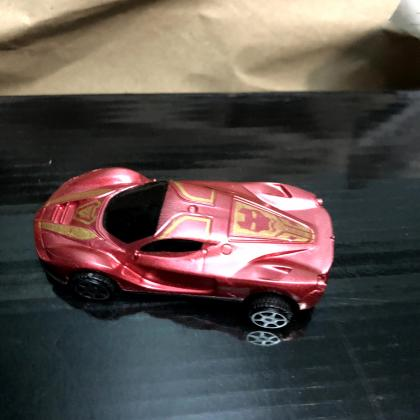Car: (32, 168, 335, 329)
